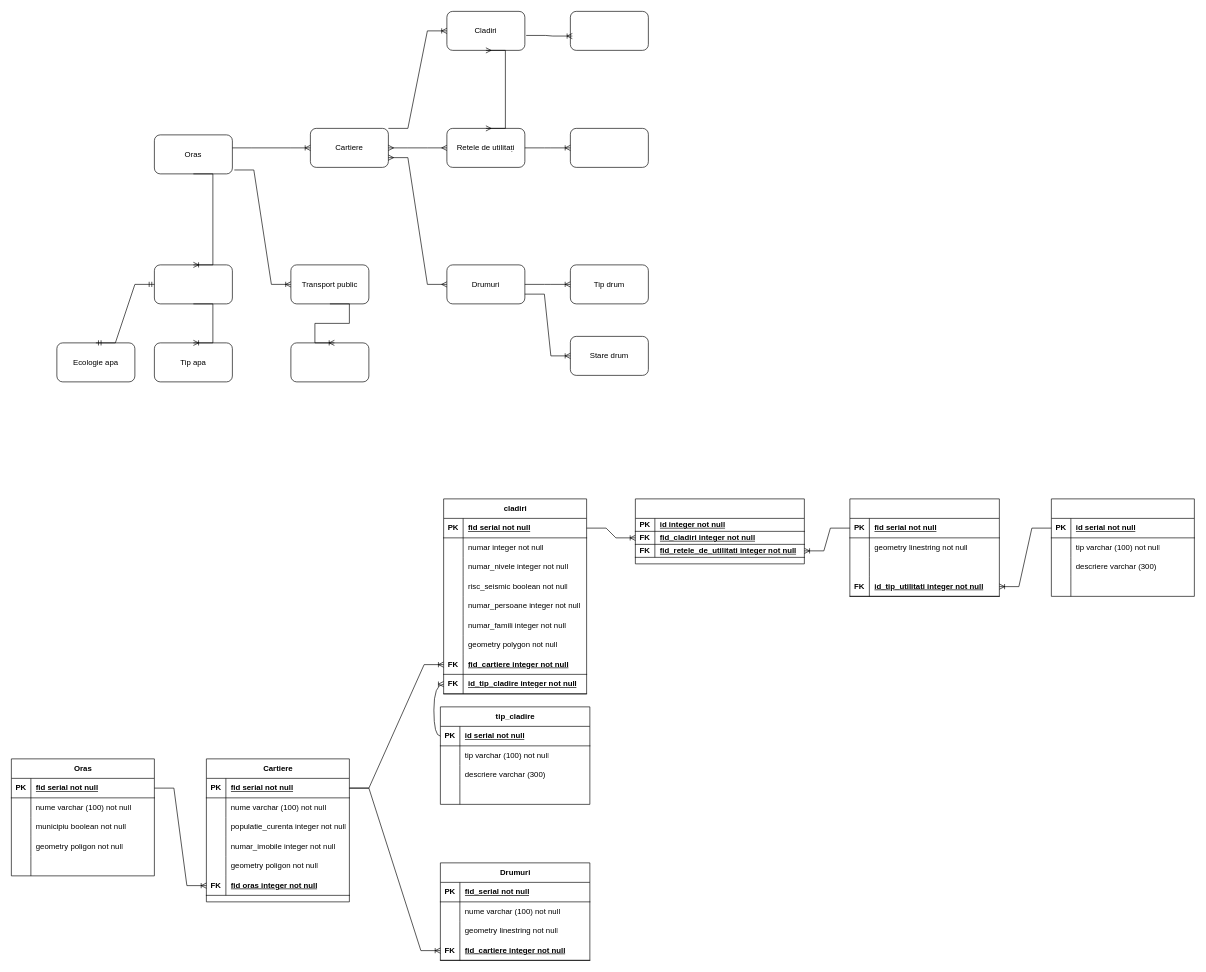
The diagram is 1206 pixels wide and 972 high, and some of its shapes have lost their labels. Each missing label, with the box of its shape:
Ape: (154, 264, 232, 304)
cladiri_retele: (635, 498, 804, 564)
retele_de_utilitati: (849, 498, 999, 596)
Tip cladire: (570, 11, 648, 50)
Tip transport: (290, 342, 369, 382)
Tip utilitati: (570, 128, 648, 167)
tip_utilitati: (1051, 498, 1194, 596)
